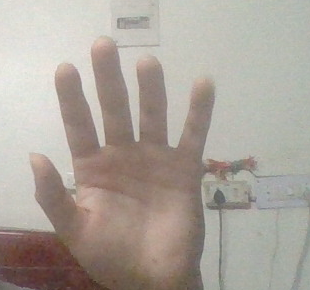move: (28, 26, 228, 282)
